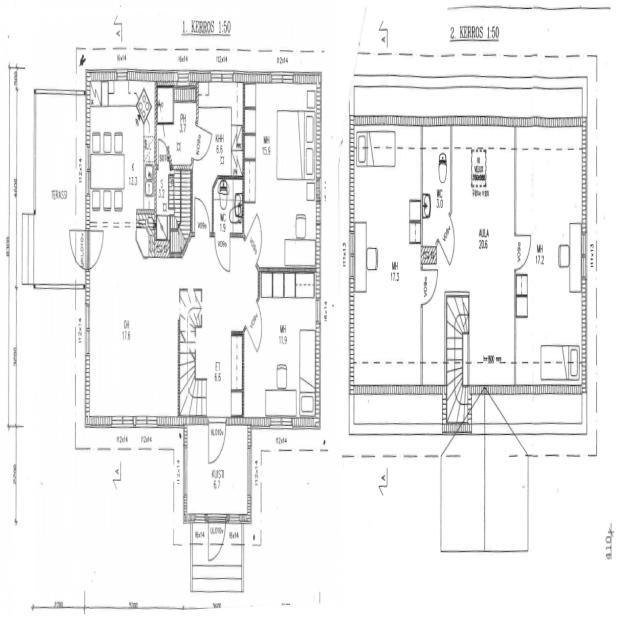door: (245, 300, 268, 352), (437, 215, 460, 267), (245, 215, 268, 266), (208, 418, 226, 466), (192, 125, 212, 168), (85, 231, 107, 270), (68, 231, 90, 269), (209, 515, 225, 562), (194, 199, 210, 237), (421, 270, 438, 305), (515, 236, 531, 269), (215, 233, 229, 269), (158, 138, 170, 169)
